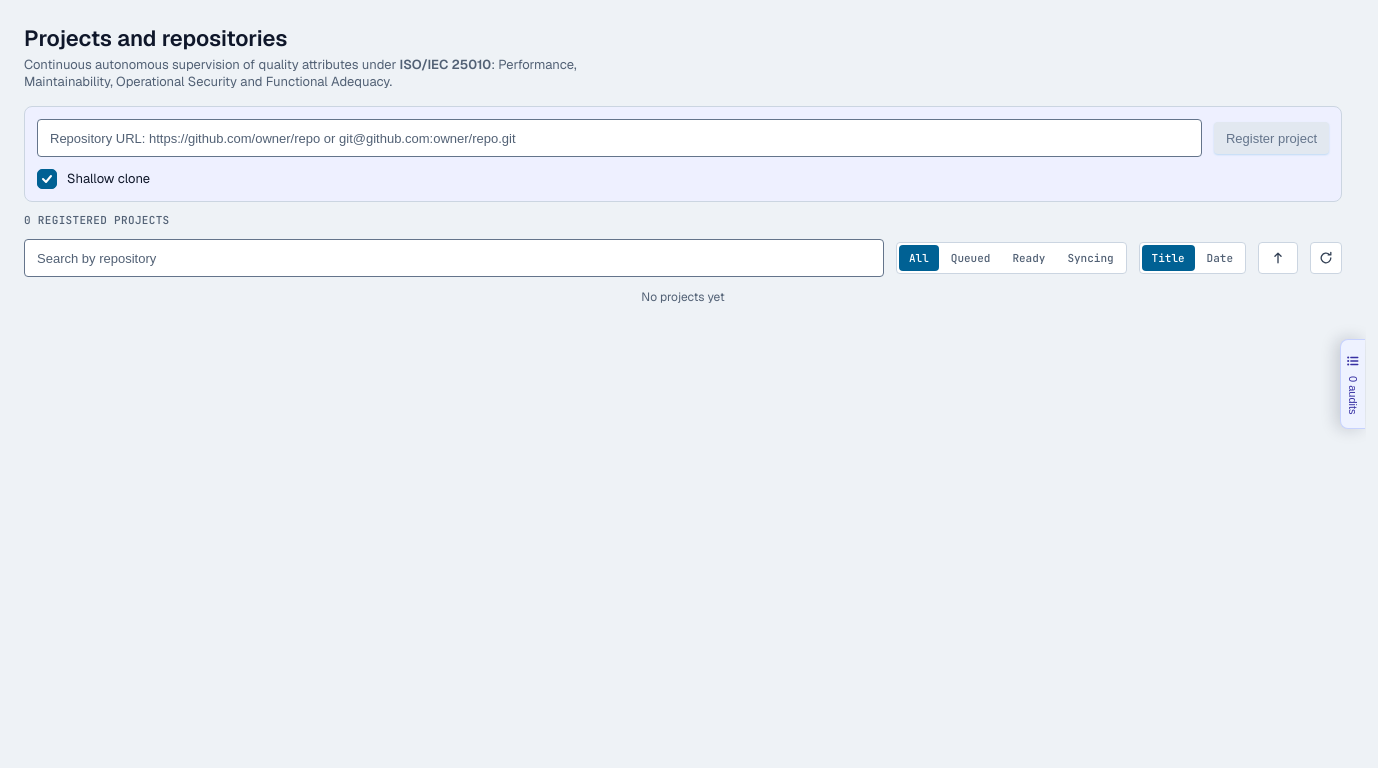
HomePage › toasts the backend error in the dock
Step 1. Type "https://github.com/acme/Gone" into the field with placeholder "Repository URL: https://github.com/owner/repo or git@github.com:owner/repo.git" → (620, 138), box [37,119,1202,157]
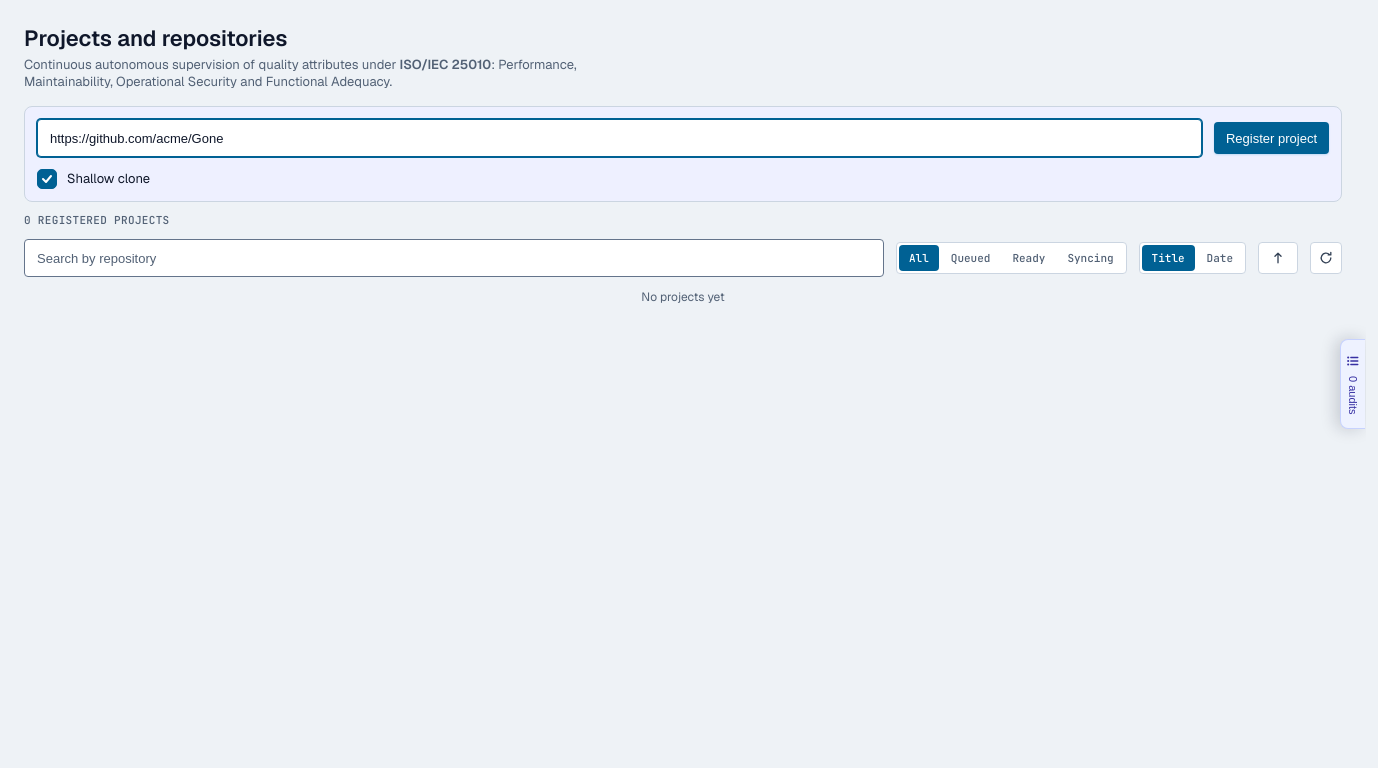
Step 2. Click the button "Register project" → (1272, 138), box [1214,122,1329,154]
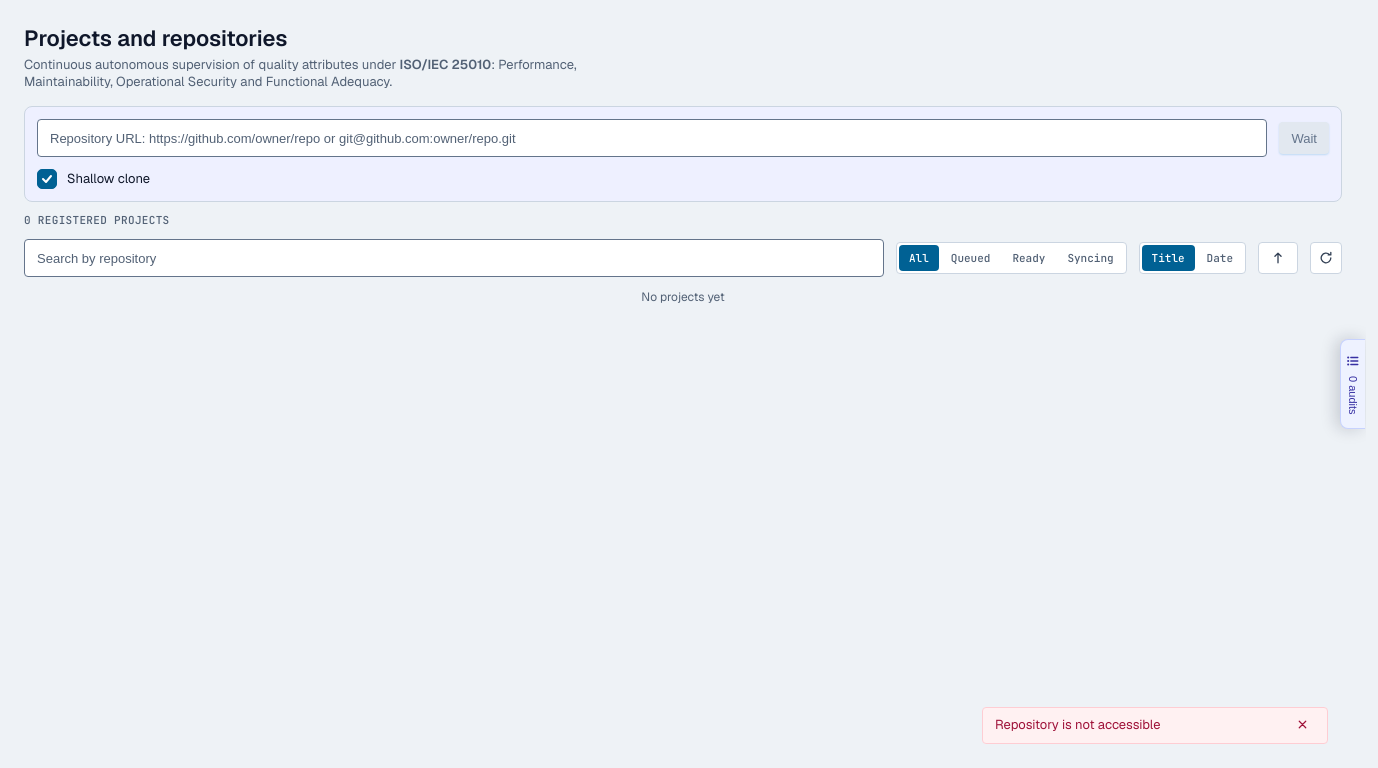
expect the message "Repository is not accessible" is shown: met, box [982,707,1328,744]
